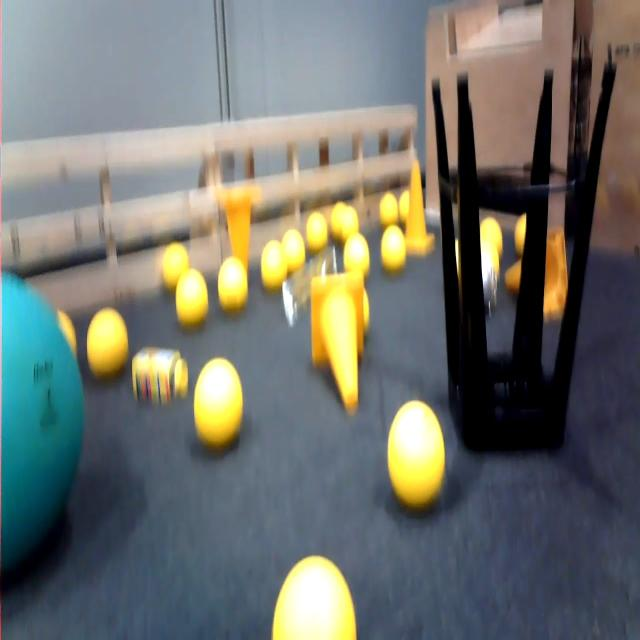fuel: (265, 541, 366, 640), (381, 393, 450, 515), (189, 353, 249, 454), (84, 297, 132, 383), (167, 262, 212, 339), (215, 248, 254, 322), (340, 227, 375, 294), (280, 219, 314, 282), (259, 237, 292, 300), (378, 221, 411, 280), (160, 232, 193, 290), (304, 206, 334, 258), (478, 211, 507, 259), (374, 188, 401, 228), (337, 204, 362, 236), (397, 180, 414, 223)
